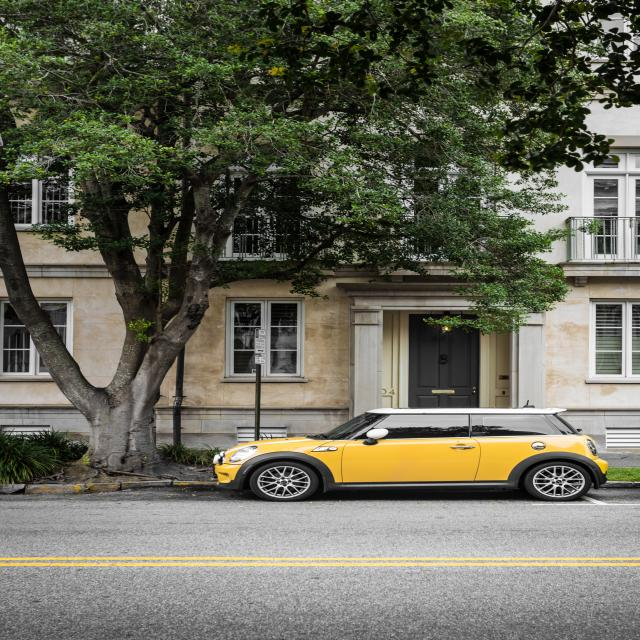car: (215, 413, 620, 514)
door: (388, 301, 498, 425)
tree: (9, 37, 211, 476)
window: (207, 296, 321, 390), (556, 158, 638, 268), (592, 301, 640, 397)
